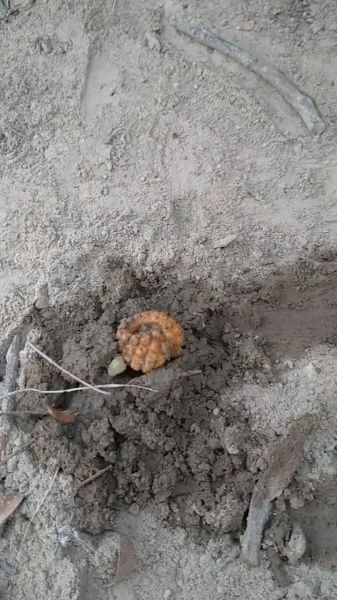eggs: (113, 311, 187, 374)
